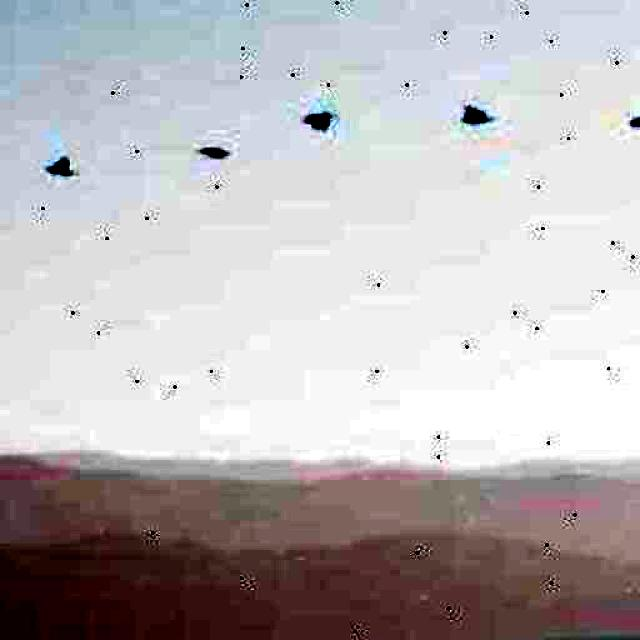airplane: (42, 156, 81, 176), (300, 112, 338, 132), (459, 104, 498, 120), (192, 149, 230, 159), (626, 118, 640, 131)
